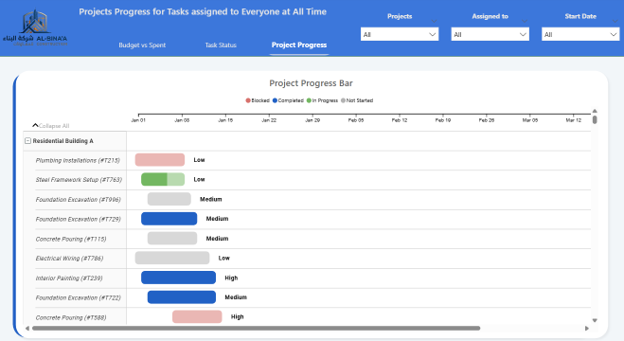

The page's visual inventory and layout, read from the dashboard file:
{"tool":"powerbi","page":{"name":"Project Progress","canvas":[1280,720],"ordinal":2},"visuals":[{"type":"shape","box":[0,0,1280,120],"z":0},{"type":"pageNavigator","box":[221,74.1,470.5,44.2],"z":1000},{"type":"shape","box":[22.9,144.4,1196.4,556.8],"z":1000,"group":"g2"},{"type":"cardVisual","fields":{"Data":["Measures_.Projects Progress title"]},"box":[144.3,0,624.3,52.9],"z":2000},{"type":"shape","box":[29.4,140,1225.5,563.3],"z":2000,"group":"g2"},{"type":"group","id":"g1","title":"Group 2","box":[731.7,28.3,548.3,91.7],"z":3000},{"type":"image","box":[0,0,154.7,120.9],"z":4000},{"type":"group","id":"g2","title":"Group 6","box":[22.9,140,1231.4,562.9],"z":6000},{"type":"Gantt1448688115699","title":"Project Progress Bar","fields":{"Parent":["large_construction_project_mana.Project Name"],"EndDate":["Min(large_construction_project_mana.Due Date)"],"Completion":["Sum(large_construction_project_mana.Progress %2)"],"Legend":["large_construction_project_mana.Task Status"],"Resource":["large_construction_project_mana.Priority"],"StartDate":["Calendar.Date"],"ExtraInformation":["large_construction_project_mana.Assigned To","large_construction_project_mana.Site Location"],"Task":["large_construction_project_mana.Task Unique Name"]},"box":[48.6,160,1182.9,525.7],"z":6001},{"type":"slicer","title":"Start Date","fields":{"Values":["Calendar.Date.Variation.Date Hierarchy.Year","Calendar.Date.Variation.Date Hierarchy.Quarter","Calendar.Date.Variation.Date Hierarchy.Month"]},"box":[1101.3,28.3,178.7,91.7],"z":7000,"group":"g1"},{"type":"slicer","title":"Assigned to","fields":{"Values":["large_construction_project_mana.Assigned To"]},"box":[916.5,28.3,178.7,91.7],"z":8000,"group":"g1"},{"type":"slicer","title":"Projects","fields":{"Values":["large_construction_project_mana.Project Name"]},"box":[731.7,28.3,178.7,91.7],"z":9001,"group":"g1"}]}

Visuals, with their boxes in screenshot pixels (x1, y1, x2, y2), scaled from the page's 1280x720 canvas onto the 624x341 screenshot:
shape: [0, 0, 623, 57]
pageNavigator: [108, 35, 337, 56]
shape: [11, 68, 594, 332]
cardVisual - Measures_.Projects Progress title: [70, 0, 375, 25]
shape: [14, 66, 612, 333]
"Group 2" group: [357, 13, 623, 57]
image: [0, 0, 75, 57]
"Group 6" group: [11, 66, 611, 333]
"Project Progress Bar" Gantt1448688115699: [24, 76, 600, 325]
"Start Date" slicer: [537, 13, 623, 57]
"Assigned to" slicer: [447, 13, 534, 57]
"Projects" slicer: [357, 13, 444, 57]
